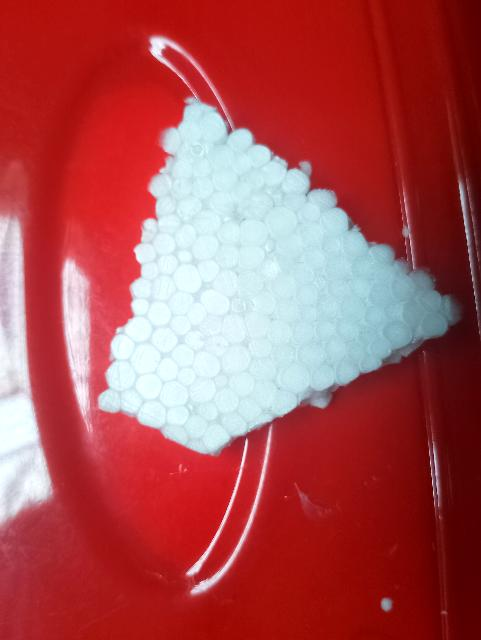cocksheet: (132, 139, 415, 444)
